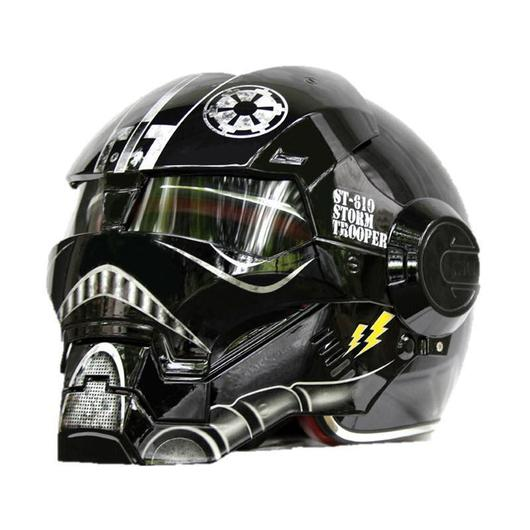with_helmet: (39, 56, 484, 474)
